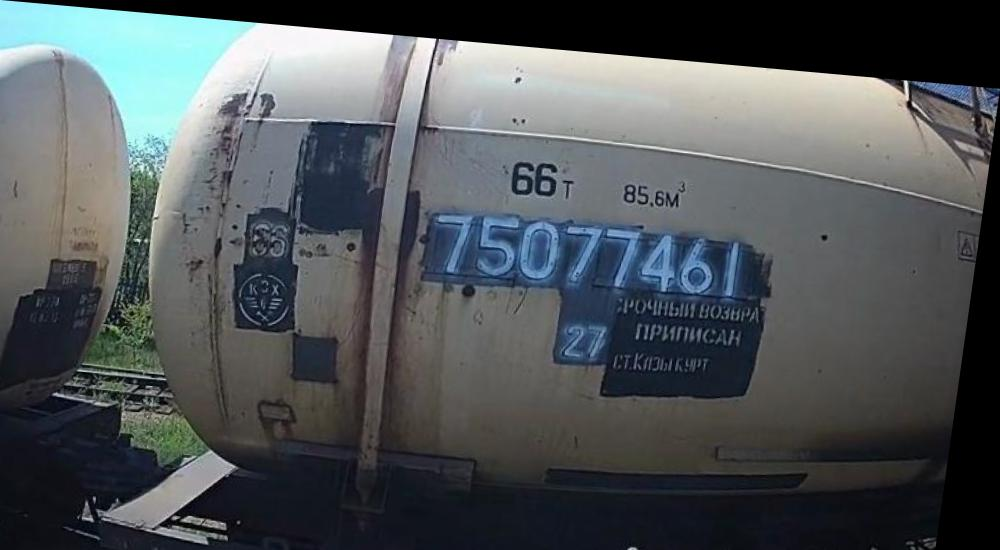Wagon-number: (427, 198, 765, 290)
